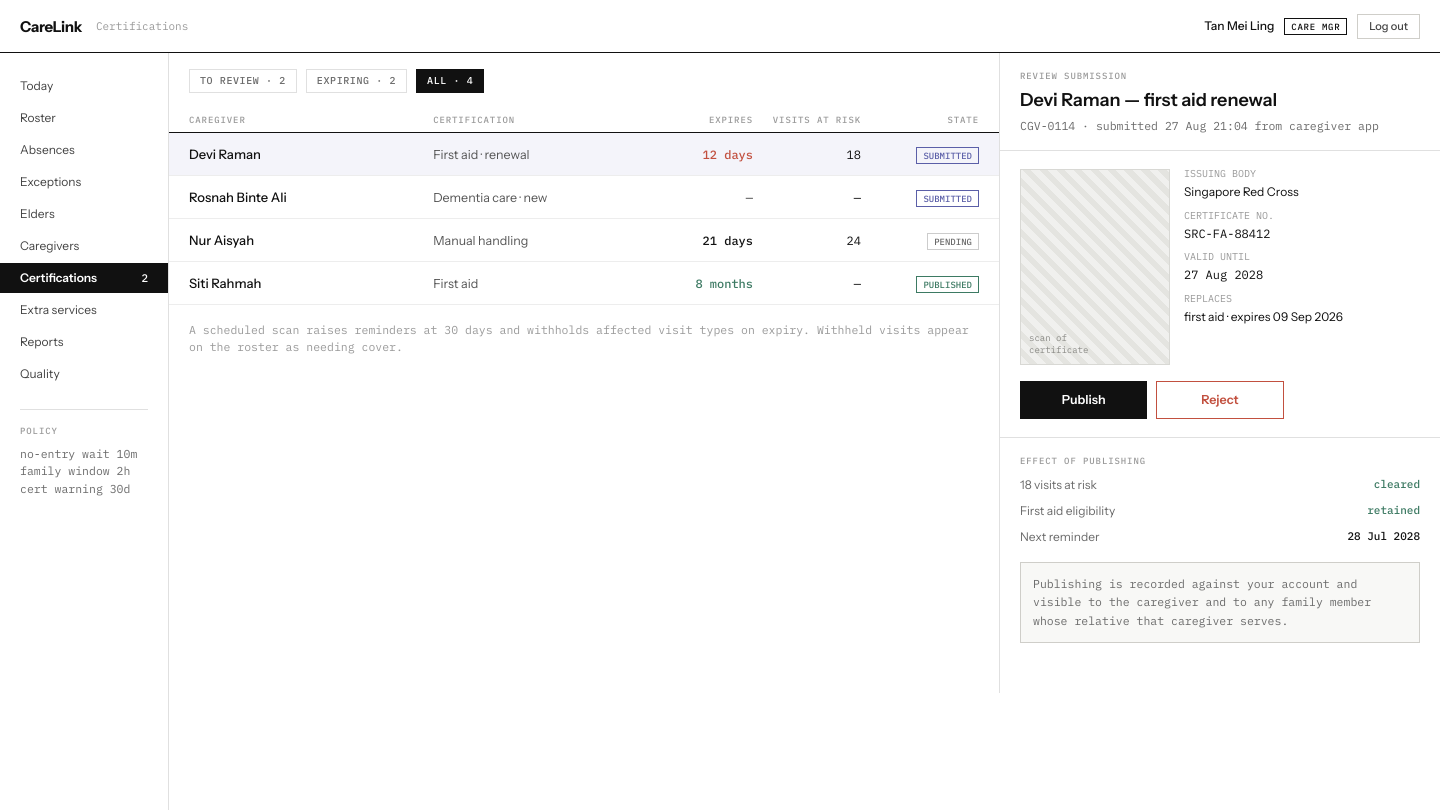
Test: shows a published row read-only, without the review actions
This screenshot has width=1440, height=810.
Expected: the text "8 months" is shown, [695, 276, 753, 291]
Click the text "Siti Rahmah".
click(225, 283)  # box [189, 275, 262, 291]
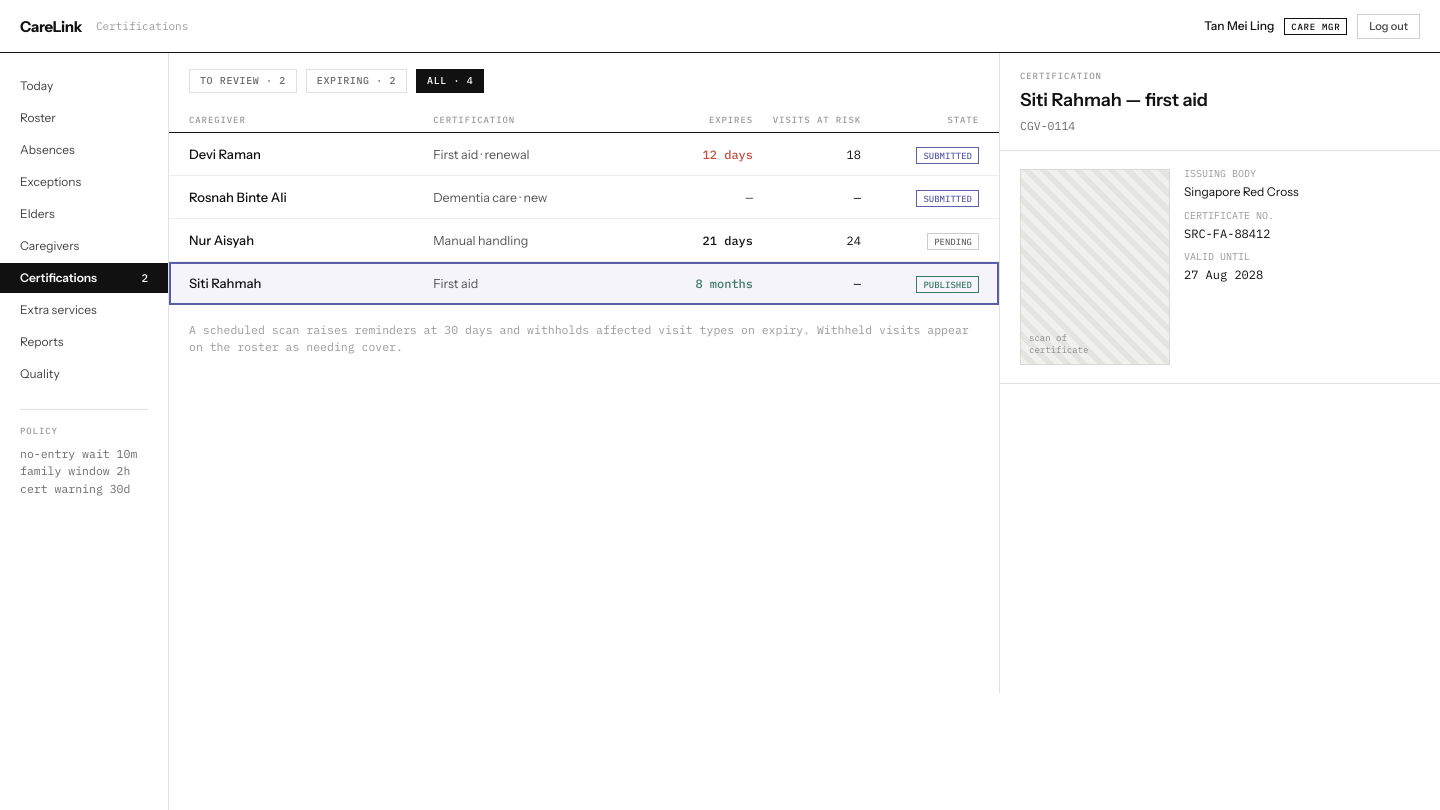
Now the heading "Siti Rahmah — first aid" is shown, box [1020, 89, 1208, 111]
Now the text "Effect of publishing" is gone
